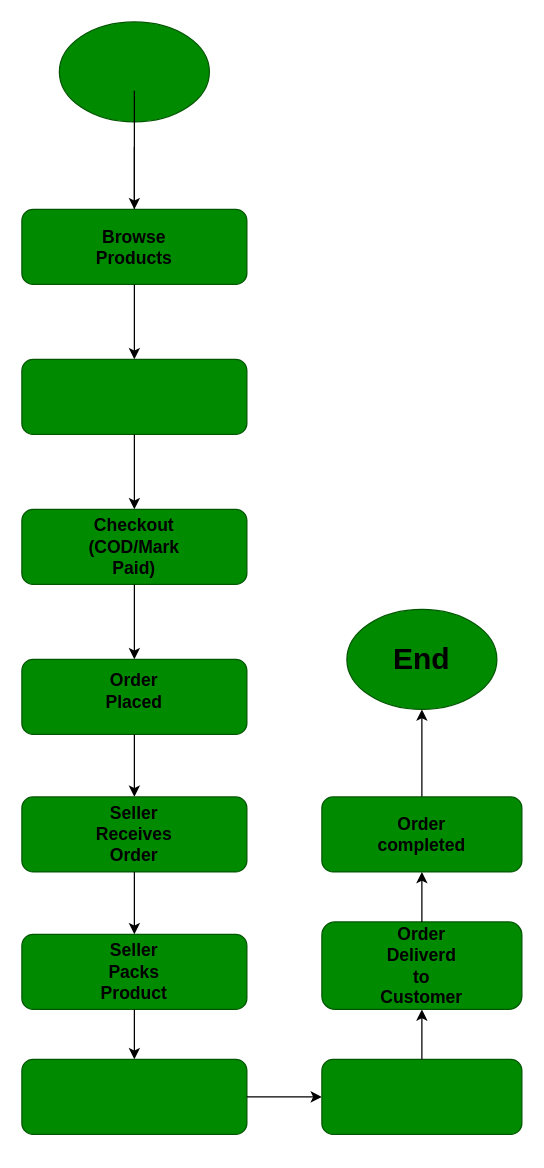
Some shapes in this 544 by 1168 pixel diagram are drawn without their labels. The shapes that lost their labels are listed below. From the top down, each one's centre as x and y in pixels, then its label:
At (x=133, y=71): "start".
At (x=134, y=396): "Add To Cart".
At (x=134, y=1096): "Assign Delivery Agent".
At (x=421, y=1096): "Agent Picks Up".
